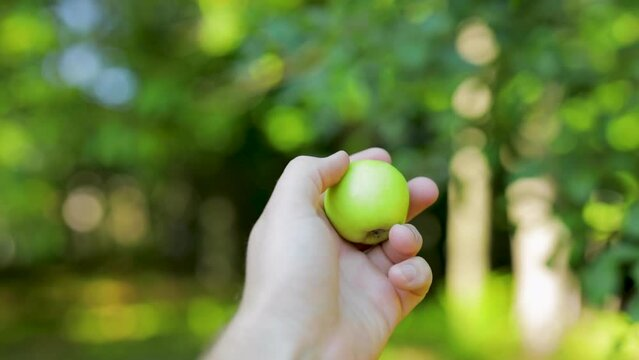apple/: (322, 166, 416, 248)
